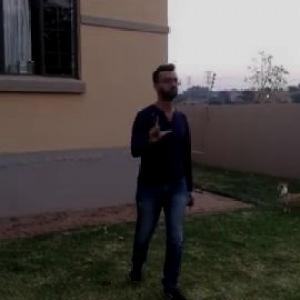land_hand: (144, 109, 174, 145)
